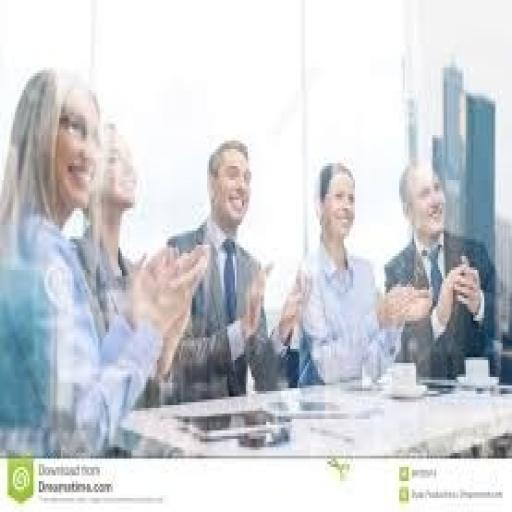clapping: (0, 62, 209, 456), (150, 138, 307, 405), (292, 158, 431, 388), (381, 158, 501, 382)
